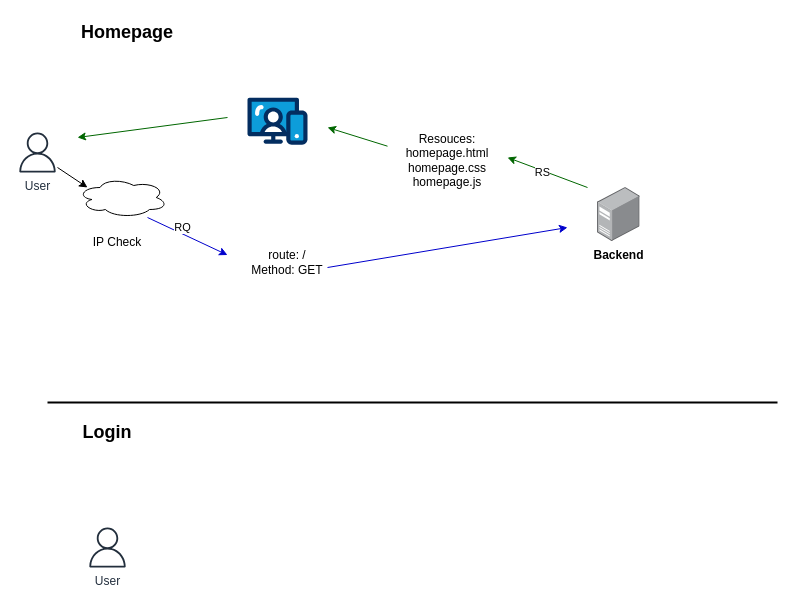
Some shapes in this 795 by 605 pixel diagram are drawn without their labels. Each missing label, with the box of its shape:
Frontend: (246, 96, 308, 145)
Nginx: (76, 176, 168, 218)
